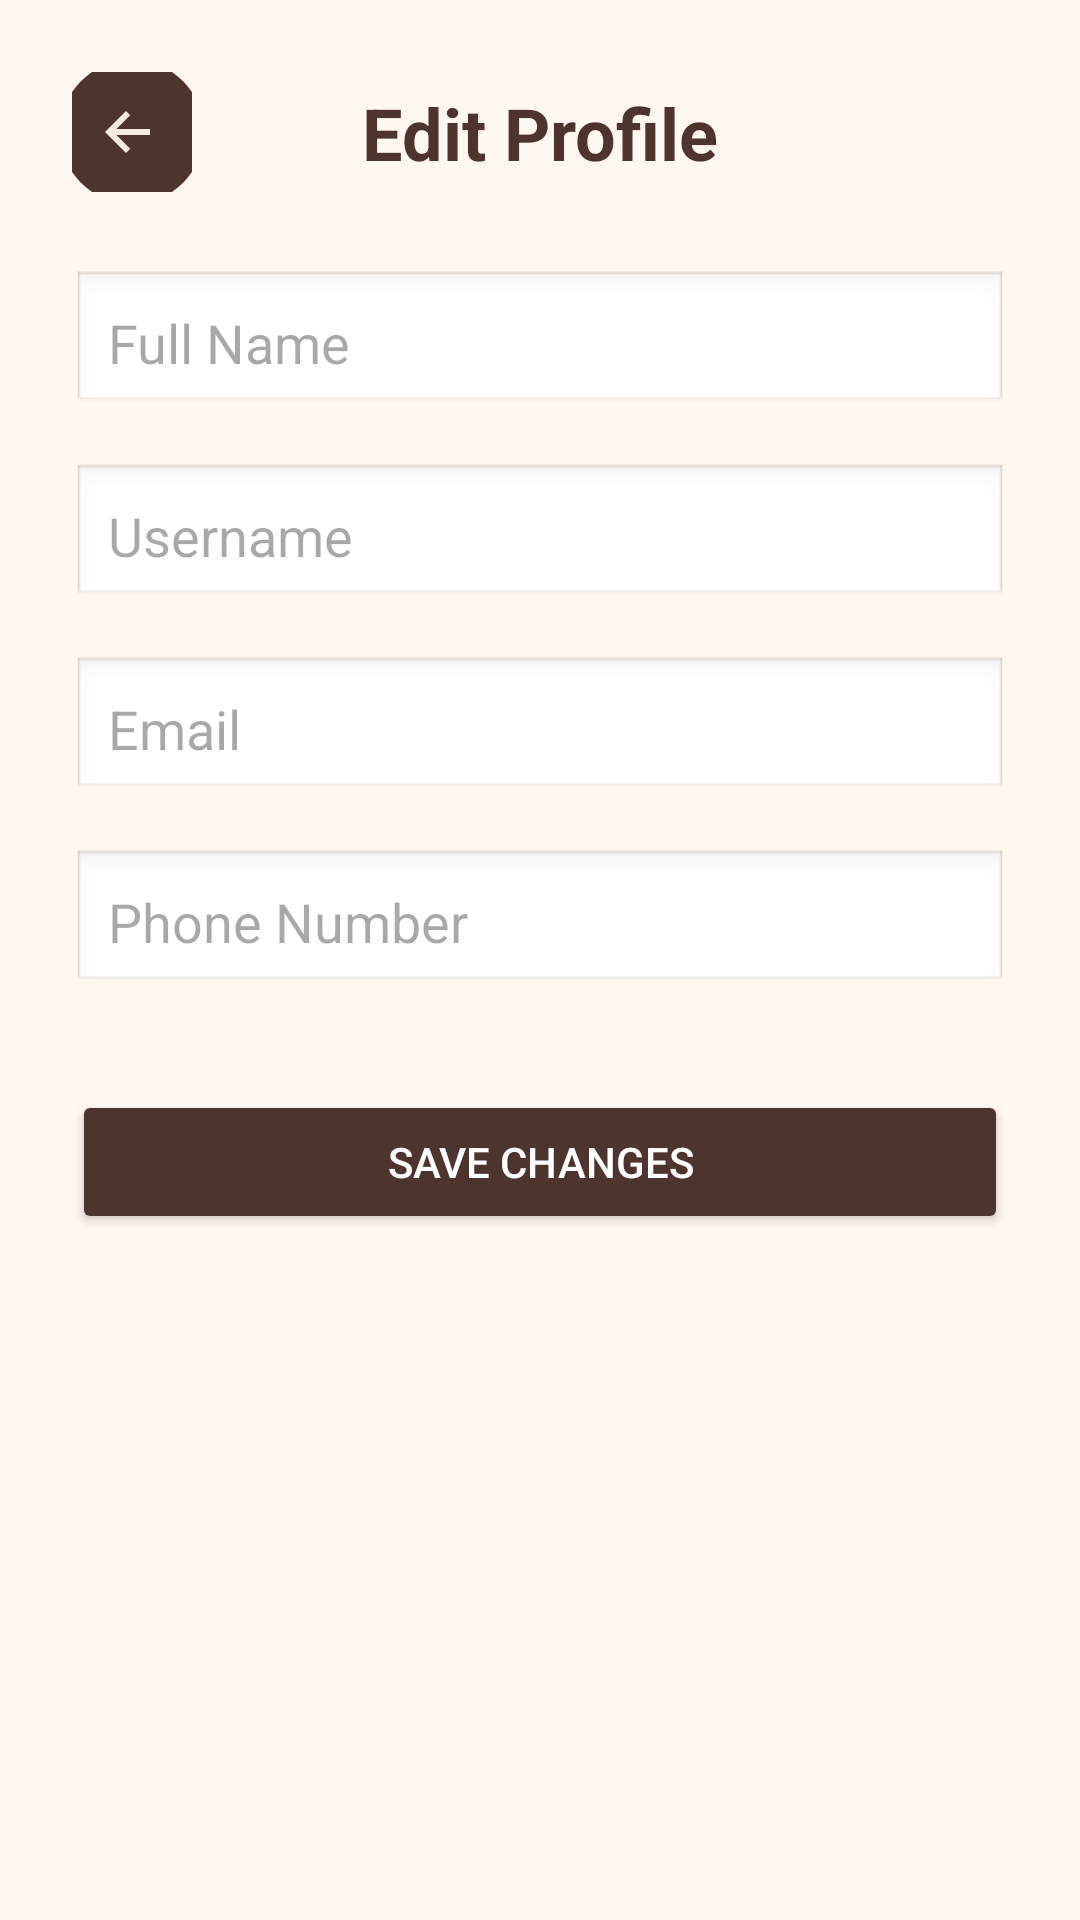

Icons on this 1080×1920 Android screen, each with its box as (x1, y1, x2, y2):
Back: (72, 72, 192, 192)
